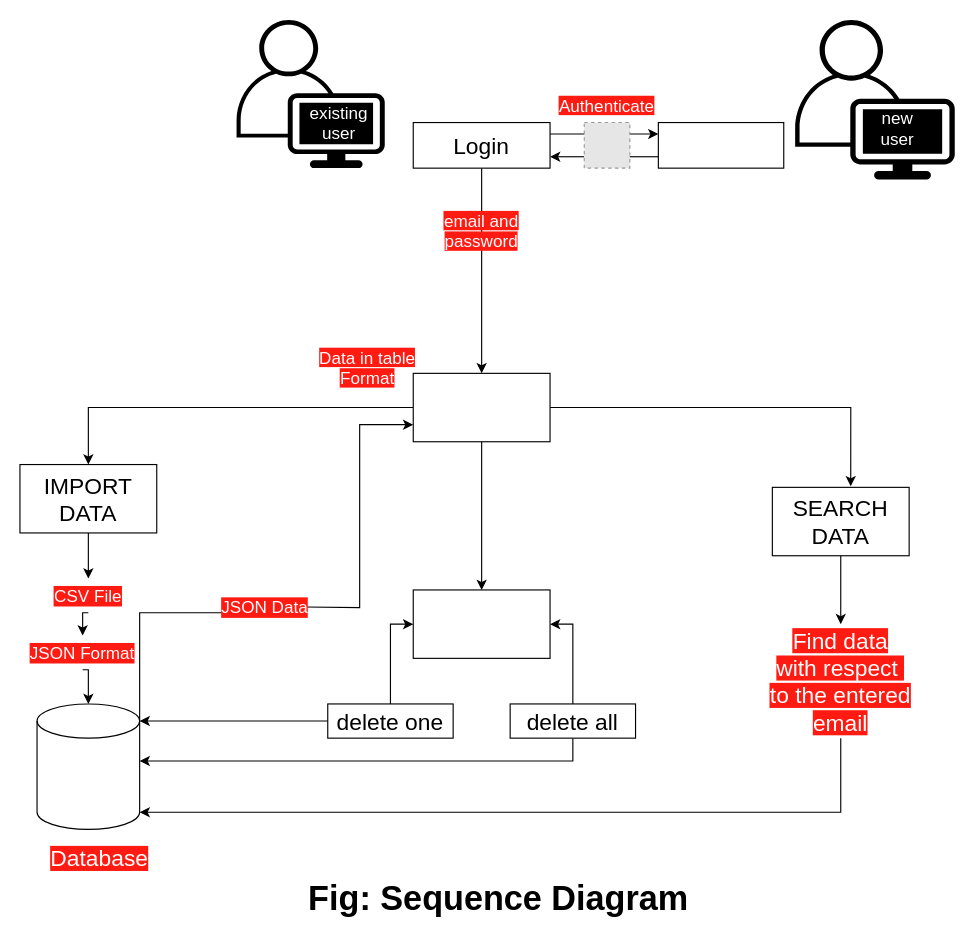
This 975x951 diagram has some shape labels left out. Grey dashed boxes stand in for pictures. Here are the shapes that lost their labels. From the top down, the centre of each, then its label:
At (720,144): "Signup".
At (481,407): "Total Contacts".
At (481,623): "DELETE".
At (88,766): "Mongo DB".
